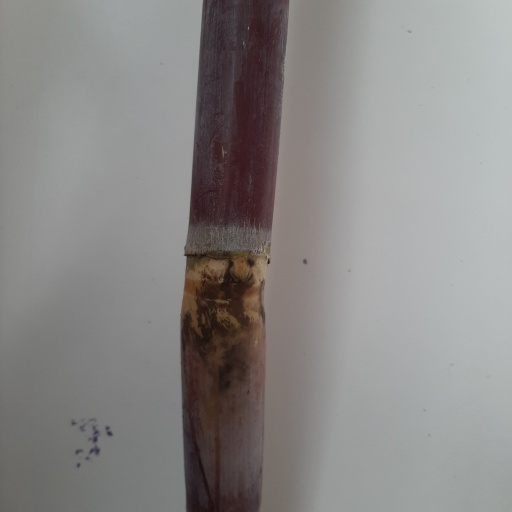Bud: (229, 256, 256, 283)
